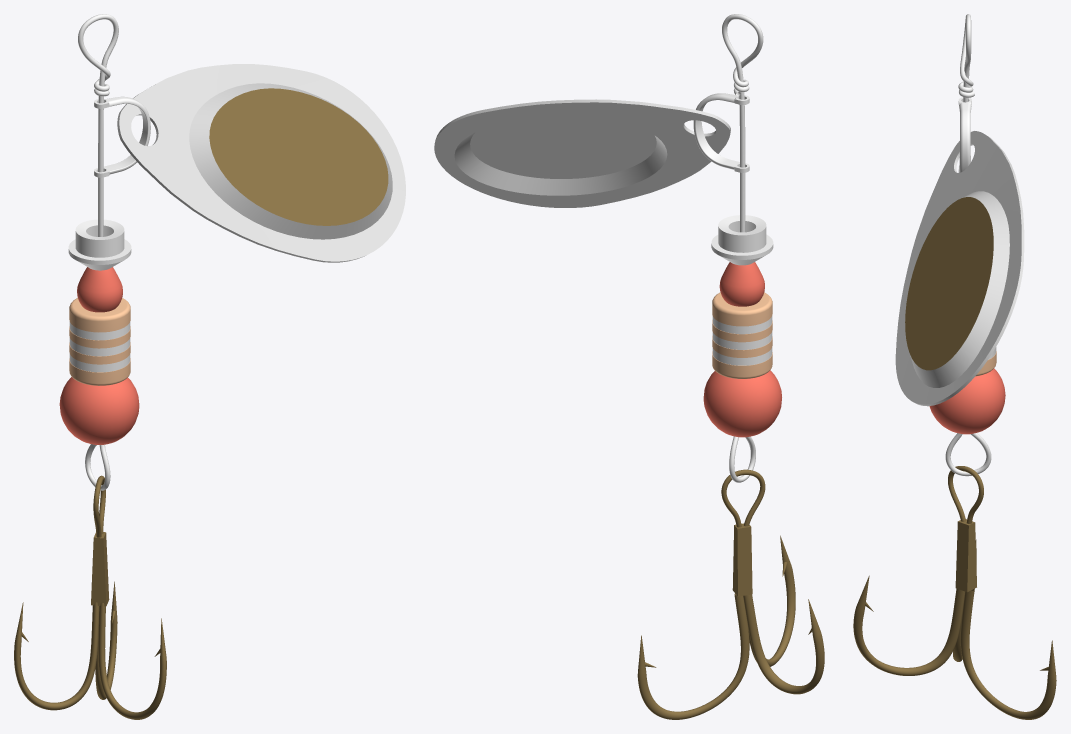
The model's file is moi_thia.glb.
3 views of the same model, side by side, from view 1: azimuth 30°, elevation 25°; view 2: azimuth 150°, elevation 25°; view 3: azimuth 270°, elevation 25° (orthographic). The views are drawn at different scales.
Parts seen in each view (by area): view 1: Cube.004, Cylinder.001, NurbsPath.004, Sphere.001, NurbsPath, Cylinder, Sphere, Cube.003, Cube.002; view 2: Cube.004, NurbsPath.004, Cylinder.001, Sphere.001, NurbsPath, Cylinder, Sphere, Cube.003, Cube.002, NurbsPath.001; view 3: Cube.004, NurbsPath.004, Sphere.001, NurbsPath, Cube.003, Cube.002, NurbsPath.001.
Part boxes in pixels (box(x1,y1,x2,y2)): Cube.004: box(117, 64, 405, 262); Cylinder.001: box(69, 298, 130, 385); NurbsPath.004: box(14, 581, 166, 719); Sphere.001: box(59, 377, 139, 444); NurbsPath: box(78, 14, 118, 490); Cylinder: box(68, 219, 131, 270); Sphere: box(77, 267, 122, 312); Cube.003: box(91, 532, 109, 606); Cube.002: box(94, 96, 150, 177); Cube.004: box(434, 99, 730, 207); NurbsPath.004: box(637, 535, 824, 719); Cylinder.001: box(712, 292, 772, 378); Sphere.001: box(703, 370, 781, 437); NurbsPath: box(722, 14, 763, 482); Cylinder: box(711, 215, 773, 265); Sphere: box(719, 262, 764, 306); Cube.003: box(732, 523, 752, 596); Cube.002: box(693, 93, 749, 172); NurbsPath.001: box(721, 469, 765, 527); Cube.004: box(895, 131, 1024, 406); NurbsPath.004: box(853, 539, 1056, 719); Sphere.001: box(929, 368, 1005, 434); NurbsPath: box(945, 14, 991, 476); Cube.003: box(955, 519, 976, 592); Cube.002: box(958, 97, 971, 172); NurbsPath.001: box(948, 466, 983, 523).
Bounding box in the file's own units: 2.49 × 4.31 × 1.16.
